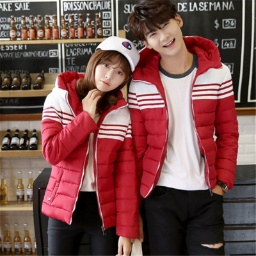face: (133, 3, 188, 58), (85, 49, 132, 93)
